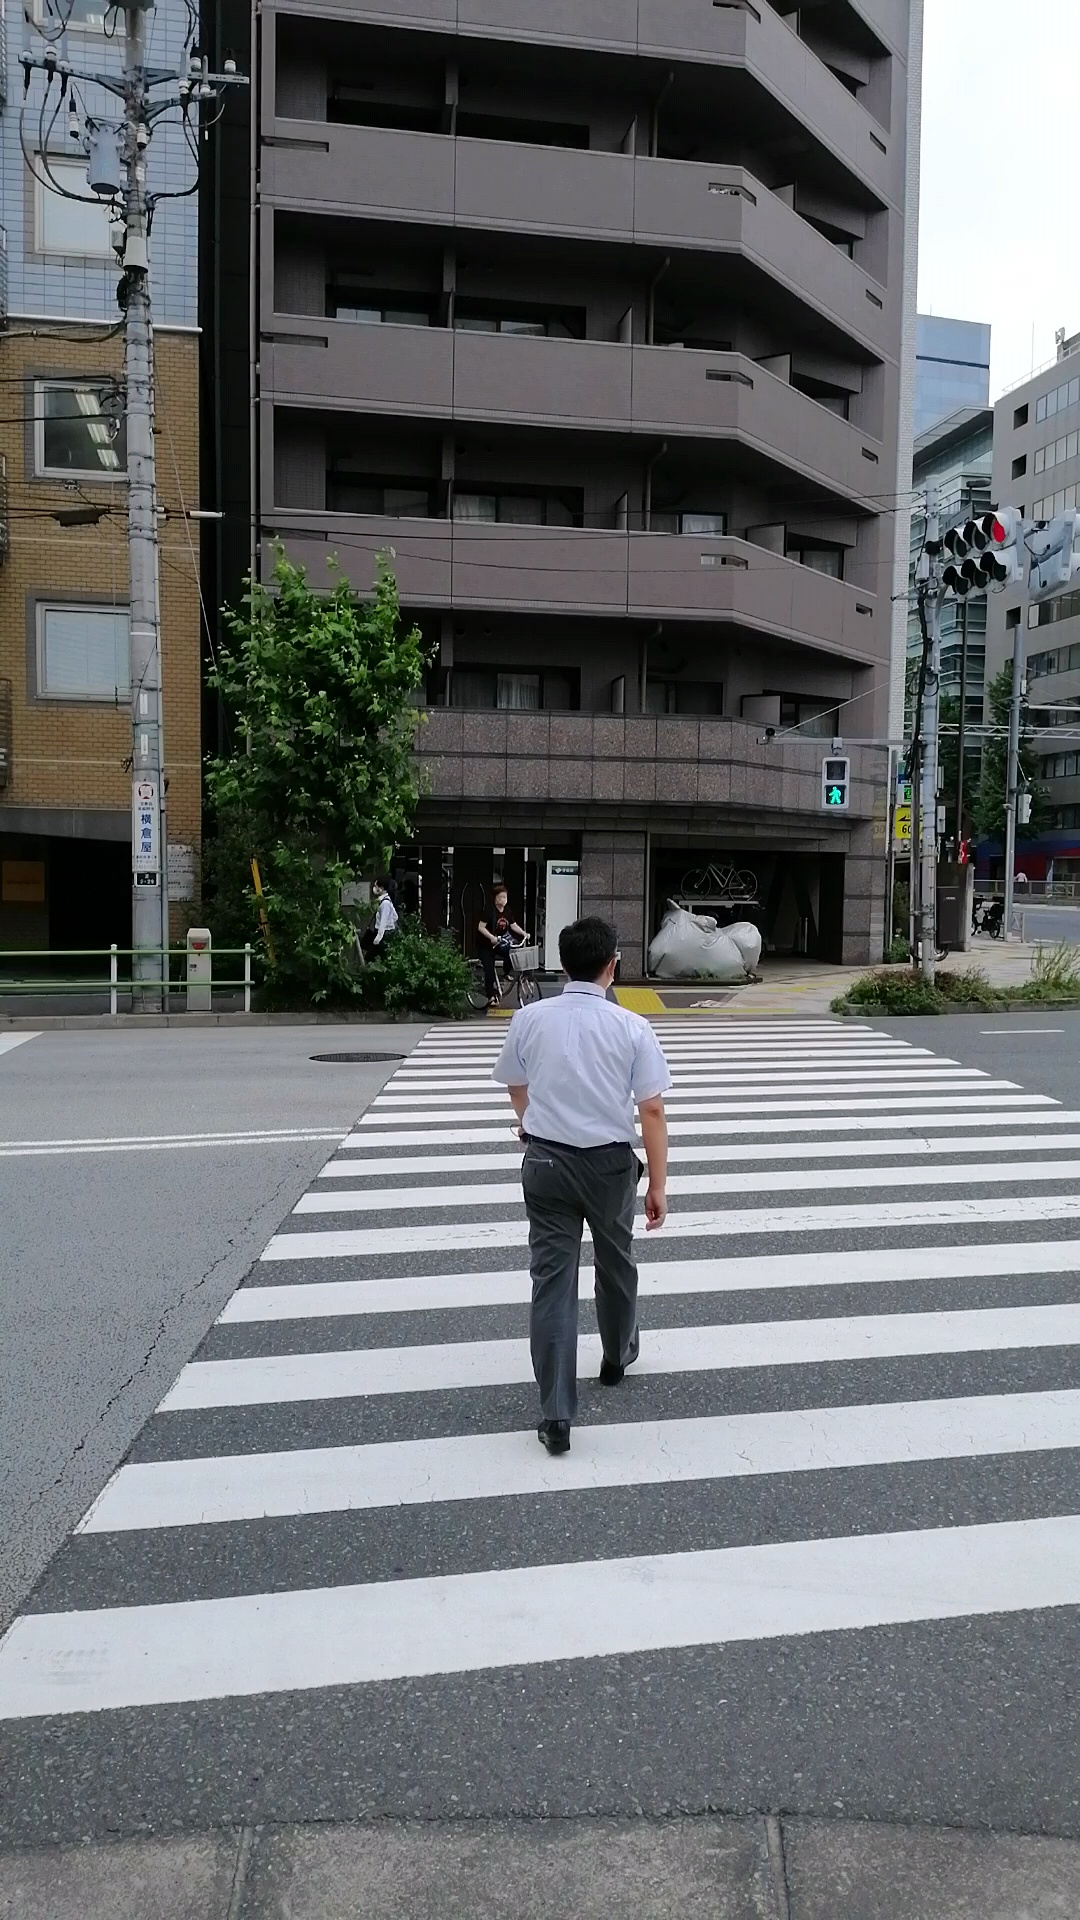green: (819, 754, 849, 810)
